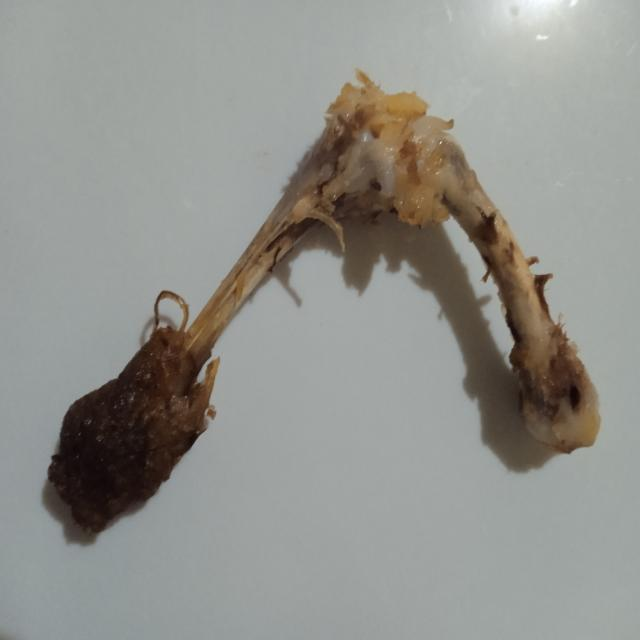bone: (40, 64, 612, 552)
